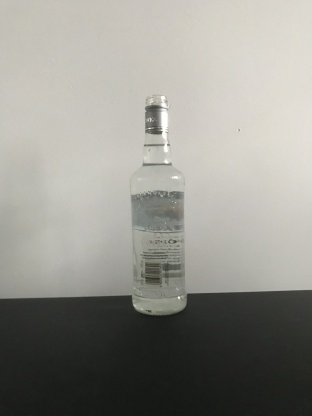nakretka: (142, 92, 170, 135)
